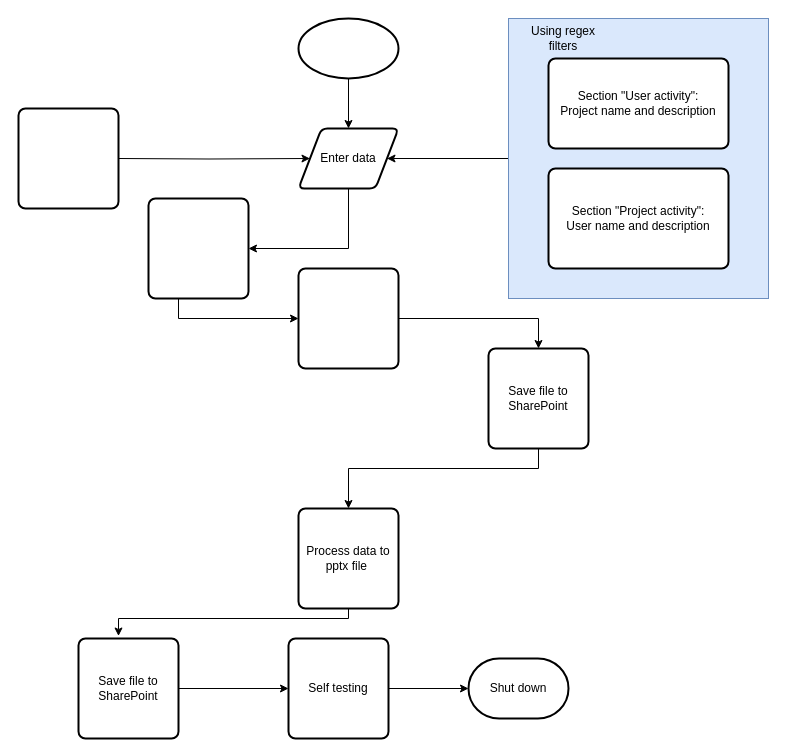
Image size: 786x756. Some labels were removed from this diagram. Here are the shapes that lost their labels. From the top down, the centre of each, then its label:
At point 348,48: "Initialization on scheduled time".
At point 68,158: "Web-page on: Python + Django".
At point 198,248: "Process data to json file".
At point 348,318: "Process data to xlsx file".
